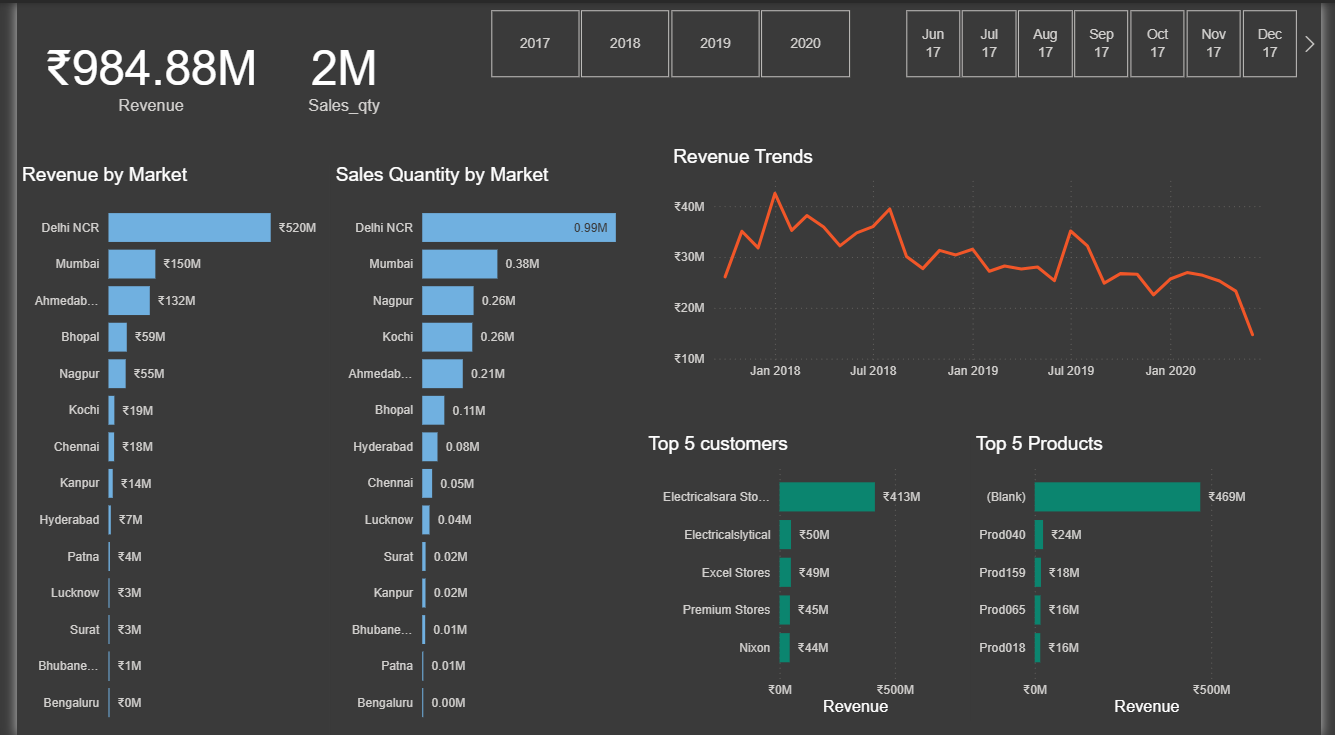

Layout of this report page (visuals, bound fields, positions):
{"tool":"powerbi","page":{"name":"Key insights","canvas":[1280,720],"ordinal":0},"visuals":[{"type":"card","fields":{"Values":["BaseMeasures.Revenue"]},"box":[16.5,0,231.9,140],"z":0},{"type":"card","fields":{"Values":["BaseMeasures.Sales_qty"]},"box":[248.4,0,146.8,140],"z":1000},{"type":"barChart","title":"Revenue by Market","fields":{"Category":["sales markets.markets_name"],"Y":["BaseMeasures.Revenue"]},"box":[0,157.8,307.4,562.6],"z":2000},{"type":"barChart","title":"Sales Quantity by Market","fields":{"Category":["sales markets.markets_name"],"Y":["BaseMeasures.Sales_qty"]},"box":[307.4,157.8,307.4,562.6],"z":3000},{"type":"slicer","fields":{"Values":["sales date.year"]},"box":[439.1,0,402.1,79.6],"z":4000},{"type":"slicer","fields":{"Values":["sales date.cy_date"]},"box":[846.7,0,433.6,79.6],"z":5000},{"type":"barChart","title":"Top 5 customers","fields":{"Category":["sales customers.custmer_name"],"Y":["BaseMeasures.Revenue"]},"box":[614.8,422.6,307.4,282.7],"z":6000},{"type":"barChart","title":"Top 5 Products","fields":{"Y":["BaseMeasures.Revenue"],"Category":["sales products.product_code"]},"box":[935.9,422.6,307.4,282.7],"z":7000},{"type":"lineChart","title":"Revenue Trends","fields":{"Y":["BaseMeasures.Revenue"],"Category":["sales date.cy_date"]},"box":[639.5,140,603.8,237.4],"z":8000}]}

Visuals, with their boxes in screenshot pixels (x1, y1, x2, y2), scaled from the page's 1280x720 canvas onto the 1335x735 screenshot:
card - BaseMeasures.Revenue: x1=17 y1=0 x2=259 y2=143
card - BaseMeasures.Sales_qty: x1=259 y1=0 x2=412 y2=143
"Revenue by Market" barChart: x1=0 y1=161 x2=321 y2=734
"Sales Quantity by Market" barChart: x1=321 y1=161 x2=641 y2=734
slicer - sales date.year: x1=458 y1=0 x2=877 y2=81
slicer - sales date.cy_date: x1=883 y1=0 x2=1334 y2=81
"Top 5 customers" barChart: x1=641 y1=431 x2=962 y2=720
"Top 5 Products" barChart: x1=976 y1=431 x2=1297 y2=720
"Revenue Trends" lineChart: x1=667 y1=143 x2=1297 y2=385
